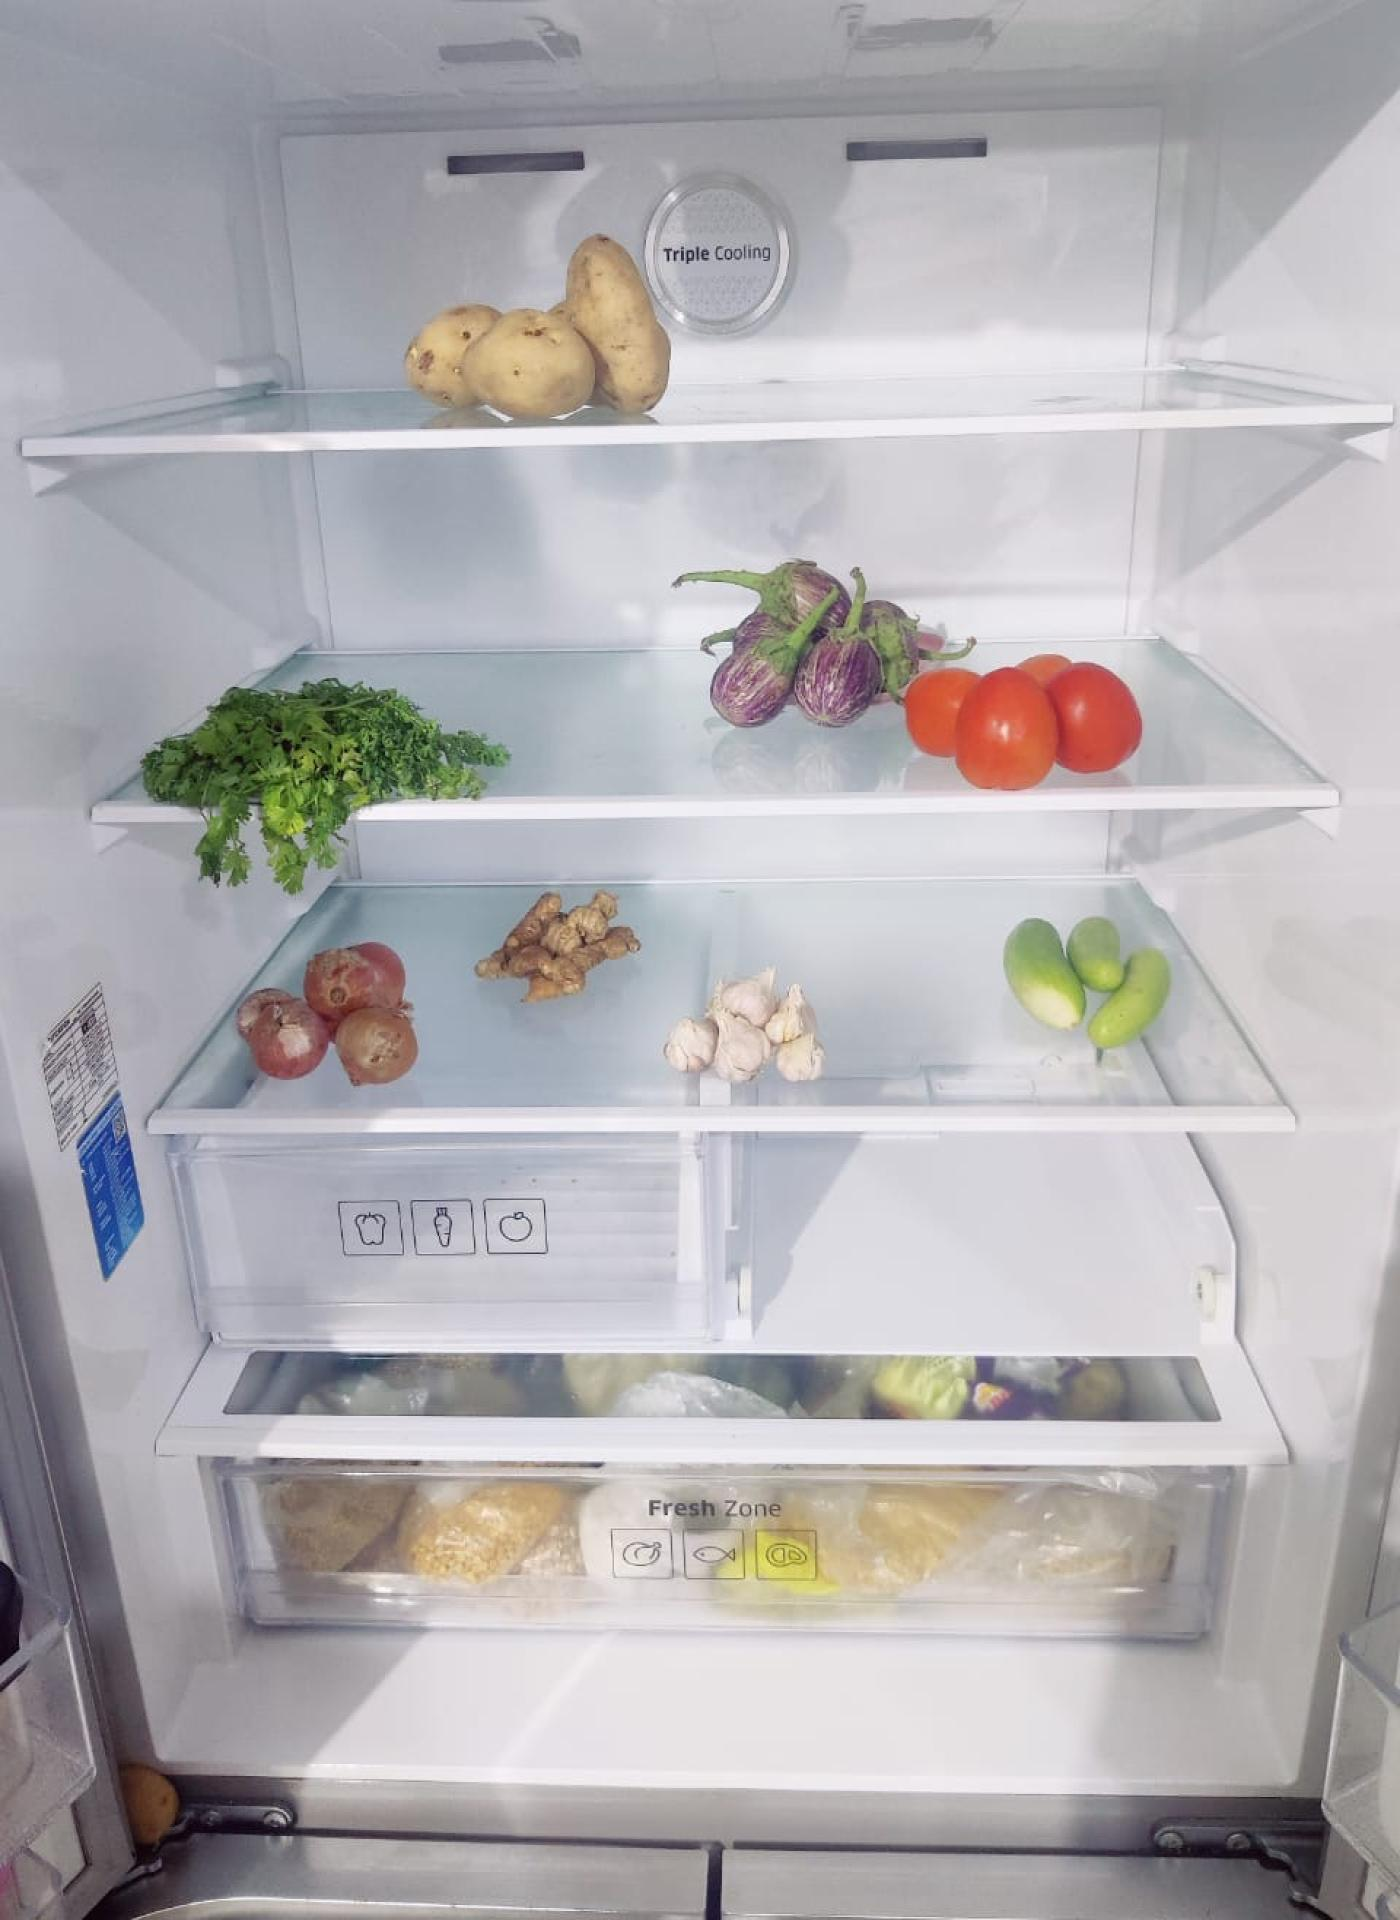brinjal: (710, 560, 921, 723)
coriander: (146, 686, 489, 851)
cucumber: (1003, 909, 1172, 1049)
garlic: (672, 966, 832, 1087)
ginger: (477, 888, 640, 1000)
onion: (245, 932, 413, 1082)
potato: (409, 243, 675, 425)
tomato: (905, 642, 1147, 780)
